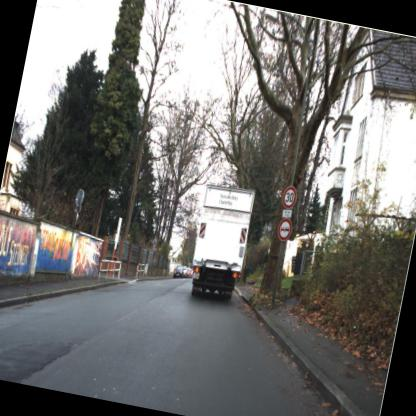prohibitory: (276, 180, 302, 212), (274, 216, 294, 245)
